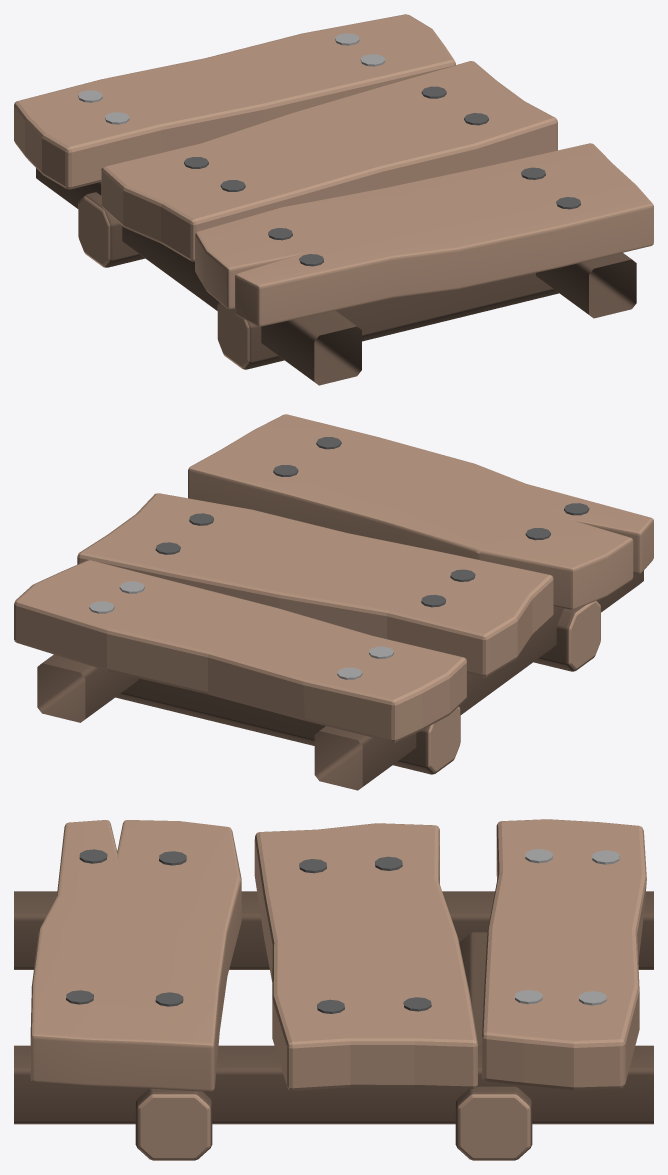
Rendered from a1_mid2_wood_block.fbx.
3 views of the same model, one above another, from view 1: azimuth 30°, elevation 25°; view 2: azimuth 150°, elevation 25°; view 3: azimuth 270°, elevation 25° (orthographic). The views are drawn at different scales.
Visible parts, largest first — view 1: mid2_wood_block; view 2: mid2_wood_block; view 3: mid2_wood_block.
Boxes of the visible parts, x1=… form: mid2_wood_block: x1=14, y1=14, x2=653, y2=385; mid2_wood_block: x1=14, y1=414, x2=653, y2=790; mid2_wood_block: x1=14, y1=819, x2=653, y2=1160.
Bounding box in the file's own units: 1.68 × 0.4742 × 2.
